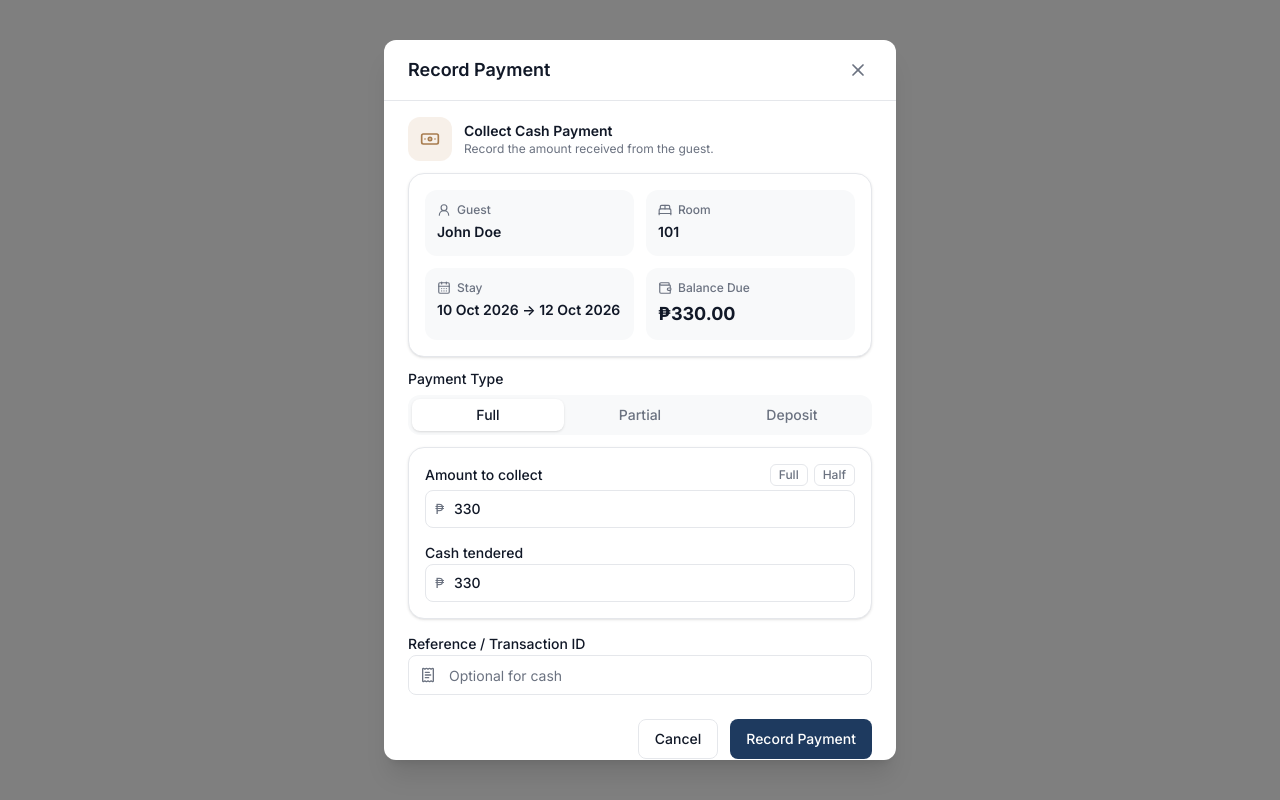
Test: PaymentModal › shows the remaining amount when tendered is less than the amount
The width and height of the screenshot is (1280, 800).
Step 1. Replace the text in the number field named "Amount to collect" with "275" → (640, 509), box [425,490,855,528]
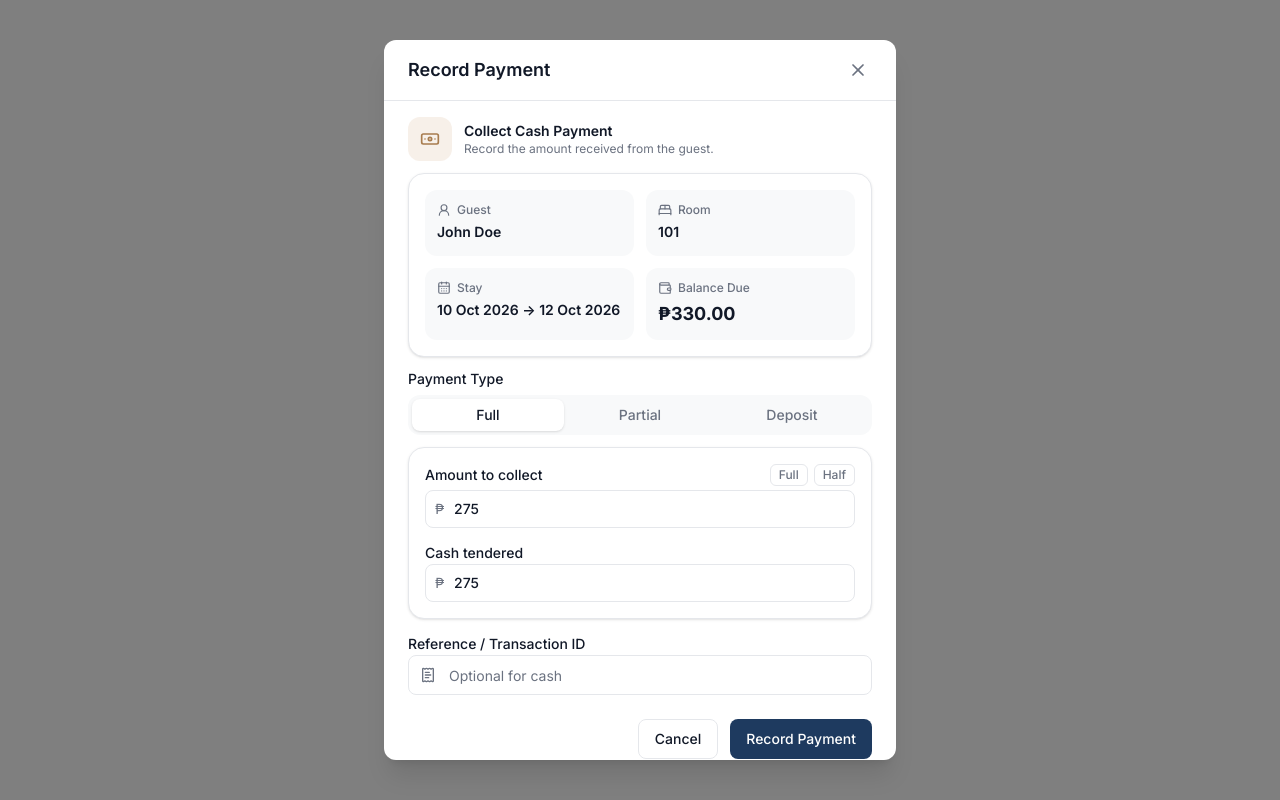
Step 2. Replace the text in the number field named "Cash tendered" with "200" → (640, 583), box [425,564,855,602]
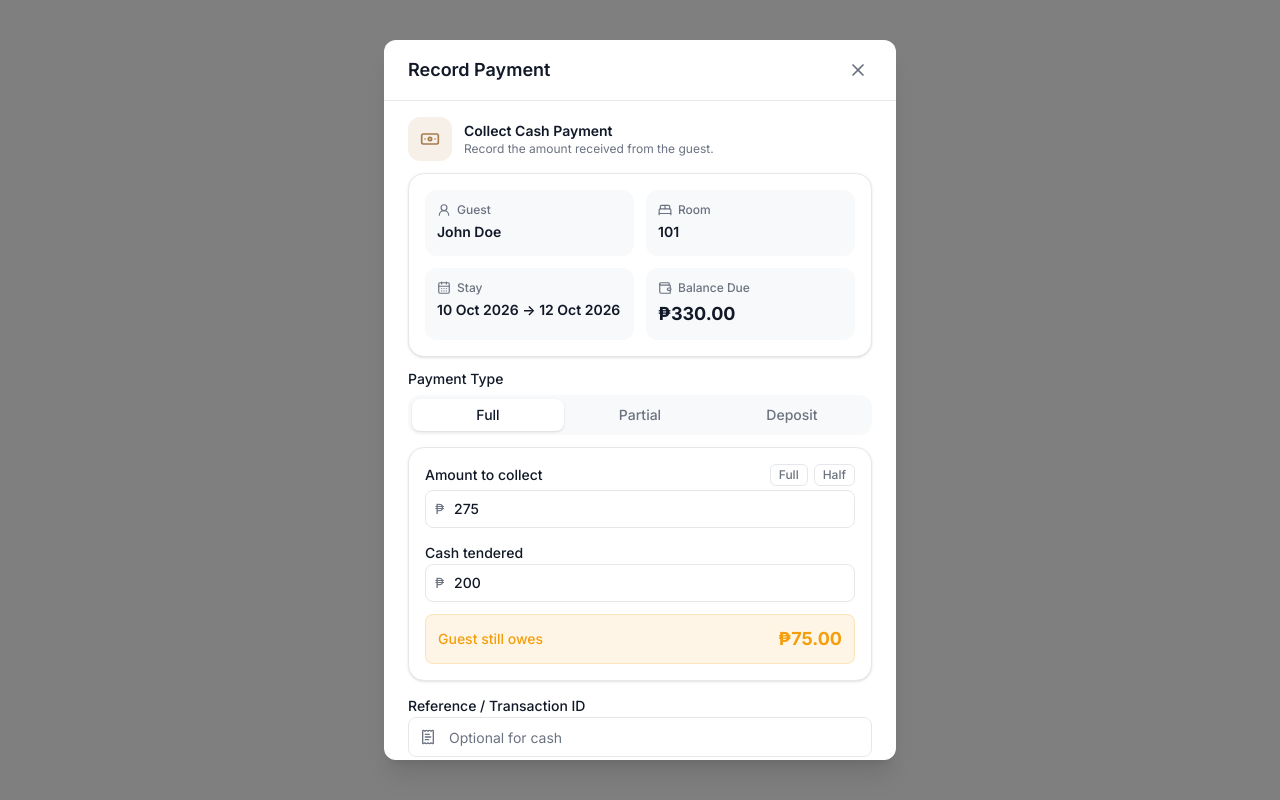
Check: the text "Guest still owes" is shown, box [438,629,543,649]
Check: the text "₱75.00" is shown, box [778,625,842,653]
